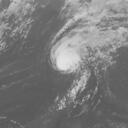cyclone: (48, 34, 91, 74)
